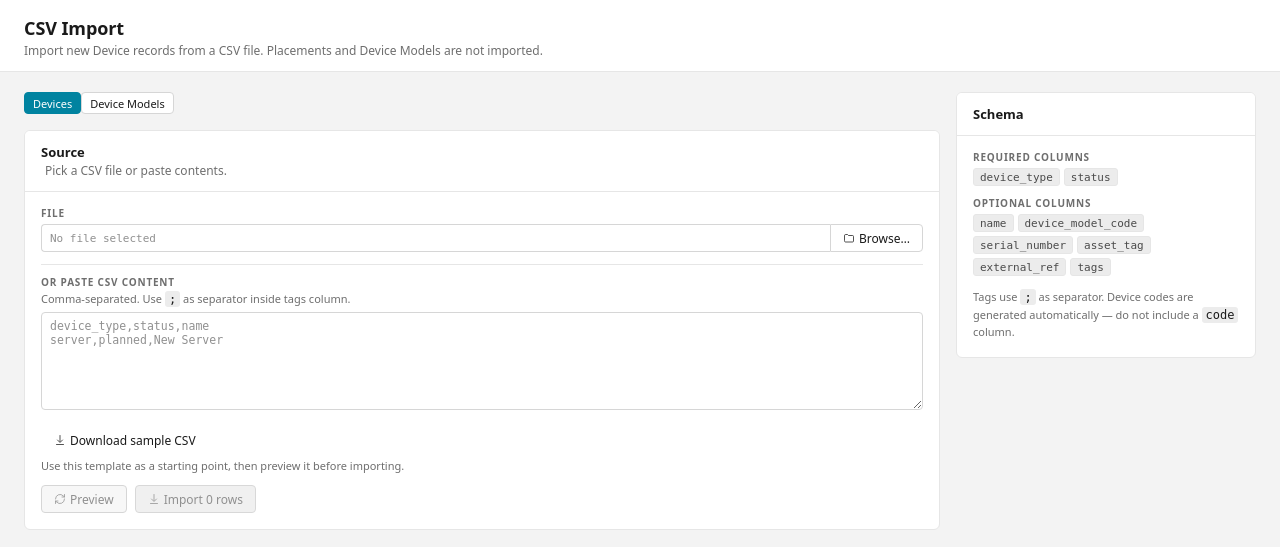
Test: CsvImportPanel — type selector › shows device model schema when Device Models type is selected
What coordinates should you click on to do the following:
click the button with test id "import-type-device-models"
I would click on:
 (127, 103)
Its box is top-left (81, 92), bottom-right (174, 114).
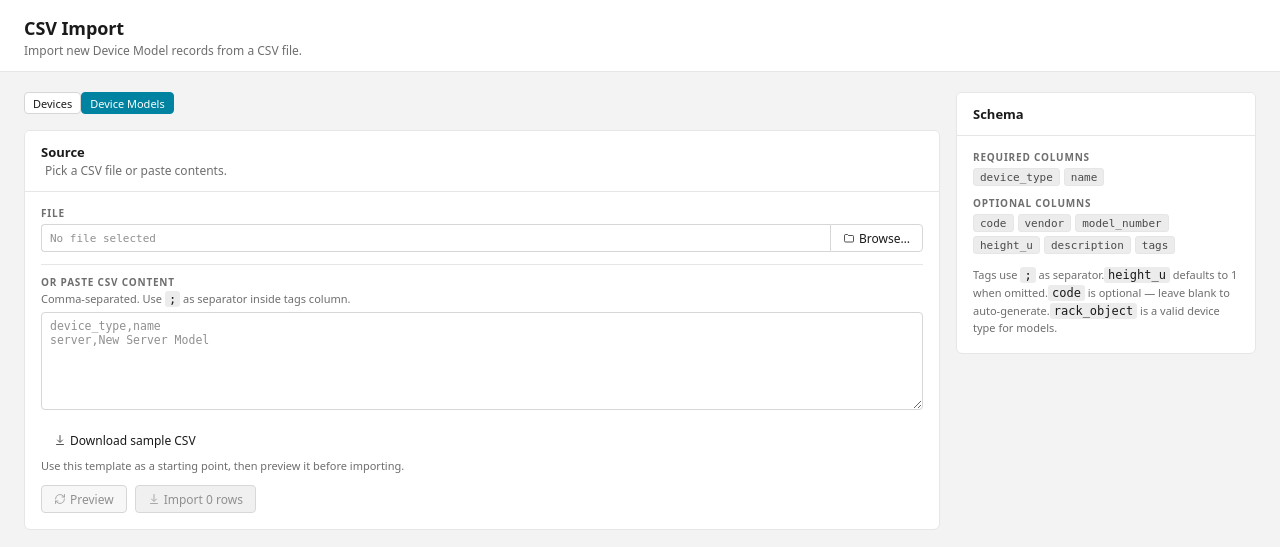
Expected: the text "device_type" is shown, top-left (973, 168), bottom-right (1060, 186)
Now the text "name" is shown, box top-left (1064, 168), bottom-right (1104, 186)
